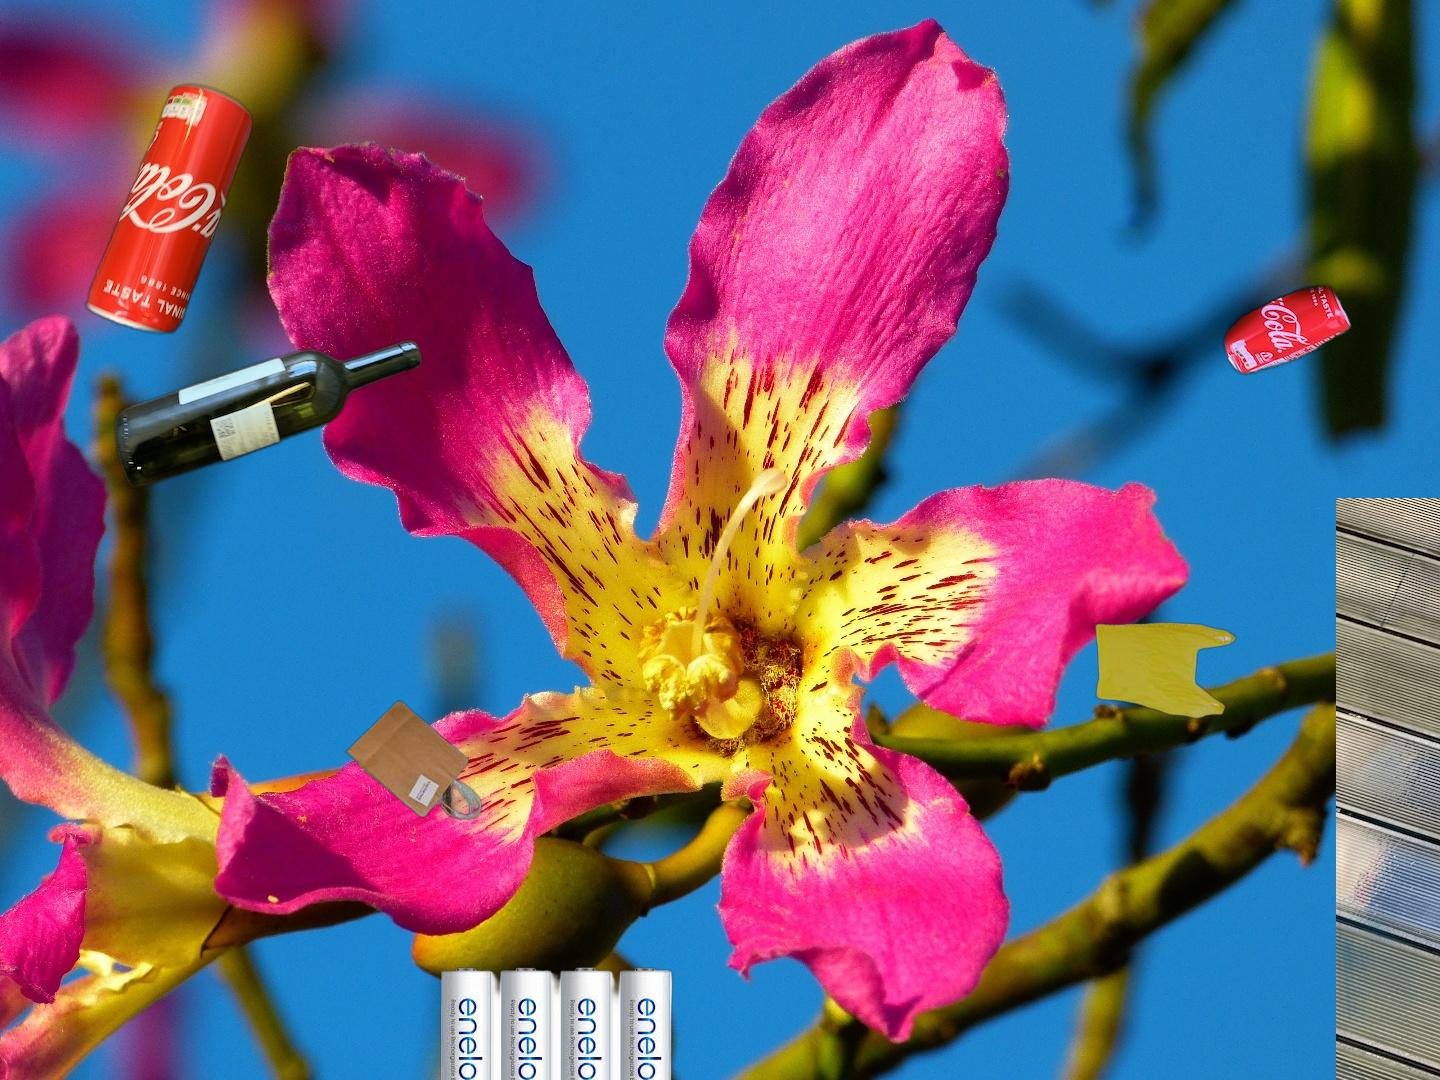battery: (438, 964, 677, 1080)
glass: (110, 335, 426, 493)
metal-cans: (1336, 498, 1440, 1080), (81, 79, 259, 340), (1220, 279, 1356, 381)
paper-bag: (342, 699, 484, 822)
plastic-bag: (1092, 621, 1239, 722)
